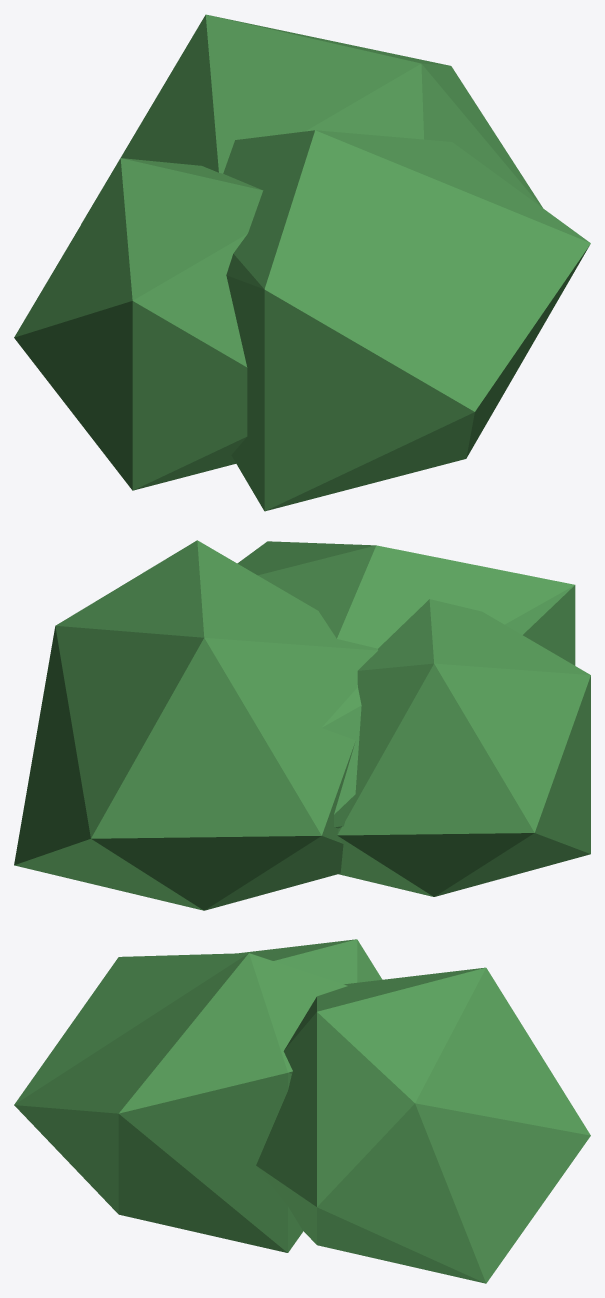
Rendered from Shrub2.fbx.
3 views of the same model, one above another, from view 1: azimuth 30°, elevation 25°; view 2: azimuth 150°, elevation 25°; view 3: azimuth 270°, elevation 25° (orthographic). The views are drawn at different scales.
Visible parts, largest first — view 1: pPlatonic33; view 2: pPlatonic33; view 3: pPlatonic33.
Boxes of the visible parts, x1,y1,x2,y2 form: pPlatonic33: [14, 14, 590, 511]; pPlatonic33: [14, 540, 590, 910]; pPlatonic33: [14, 939, 590, 1283].
Bounding box in the file's own units: 2.51 × 1.39 × 3.05.
